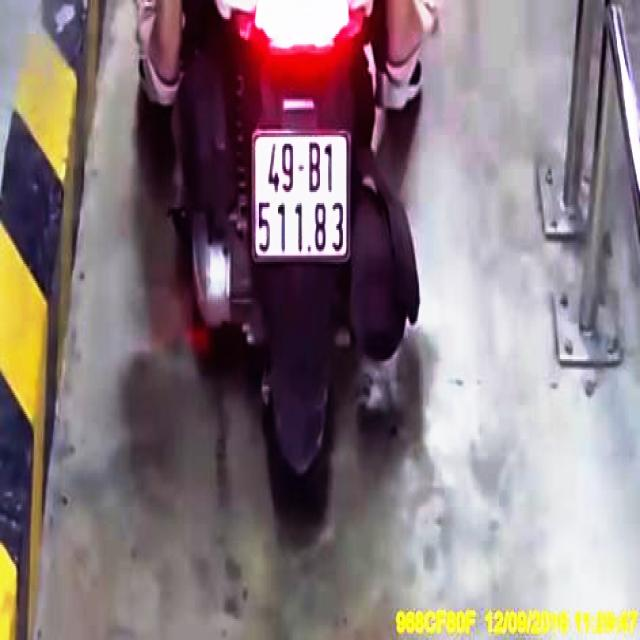license_plate: (252, 130, 352, 265)
